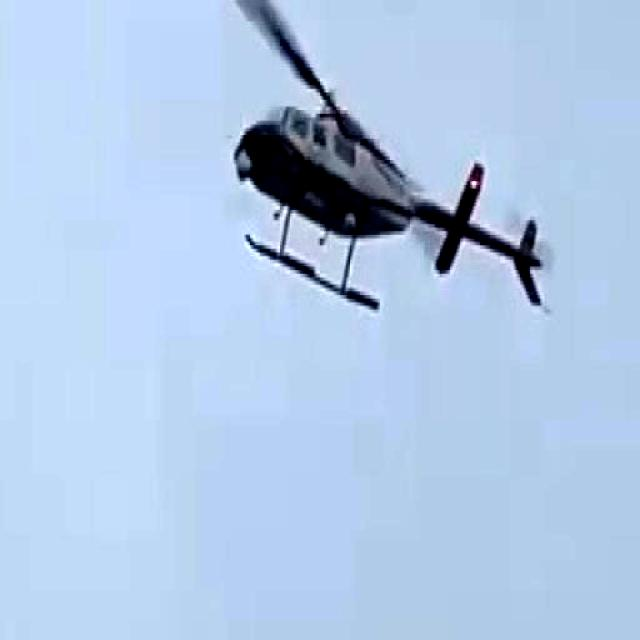drone: (196, 0, 558, 336)
